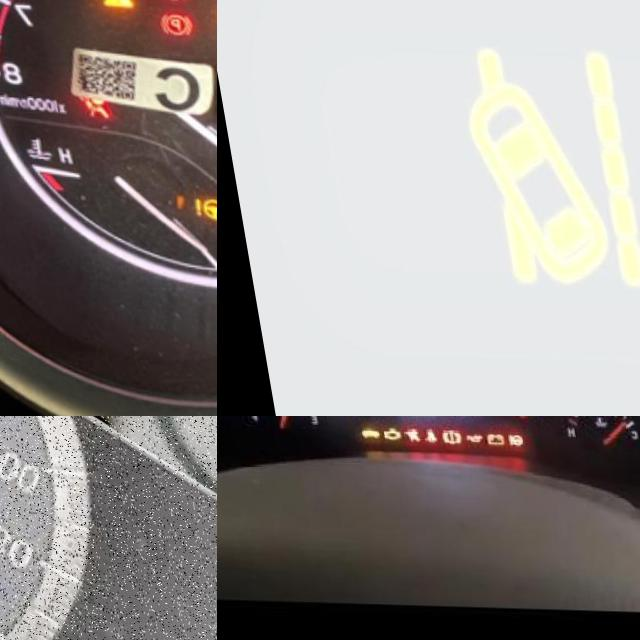Seat Belt: (411, 427, 424, 441)
